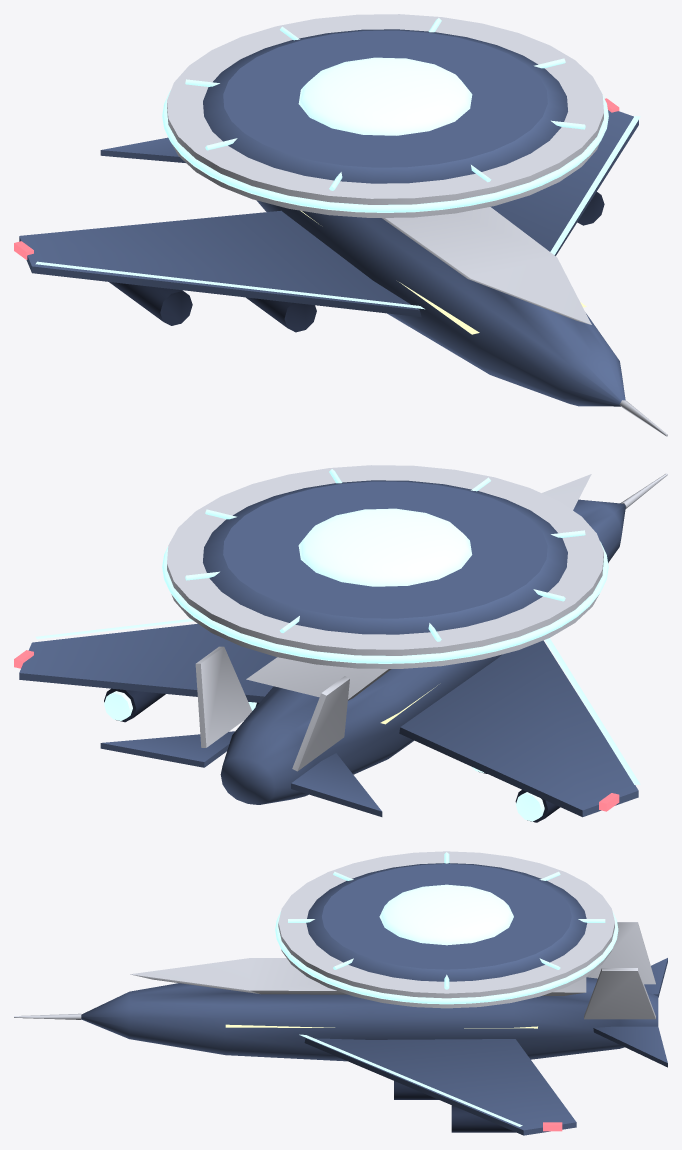
File: sentinel.glb
3 views of the same model, one above another, from view 1: azimuth 30°, elevation 25°; view 2: azimuth 150°, elevation 25°; view 3: azimuth 270°, elevation 25° (orthographic). The views are drawn at different scales.
Parts seen in each view (by area): view 1: sentinel; view 2: sentinel; view 3: sentinel.
Part boxes in pixels (x1=…): sentinel: x1=14, y1=14, x2=667, y2=436; sentinel: x1=14, y1=465, x2=667, y2=822; sentinel: x1=14, y1=851, x2=667, y2=1135.
Bounding box in the file's own units: 11.2 × 3.49 × 13.6.
